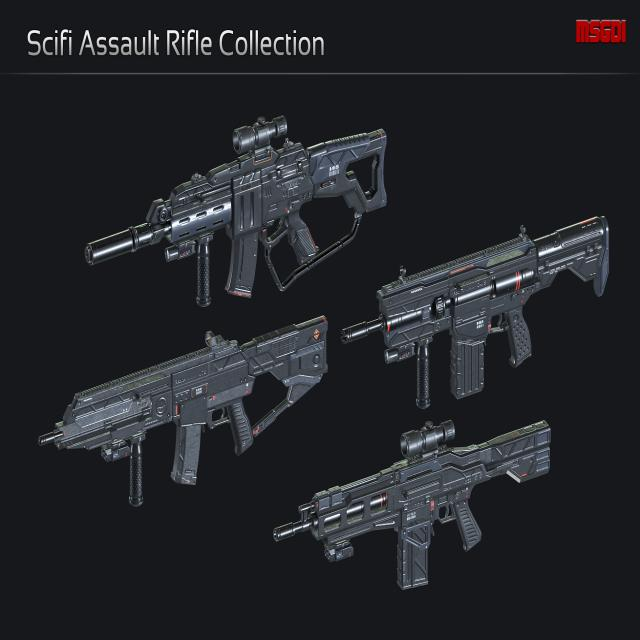Rifle: (84, 116, 388, 310), (37, 316, 330, 511), (344, 215, 610, 413), (273, 419, 552, 593)
